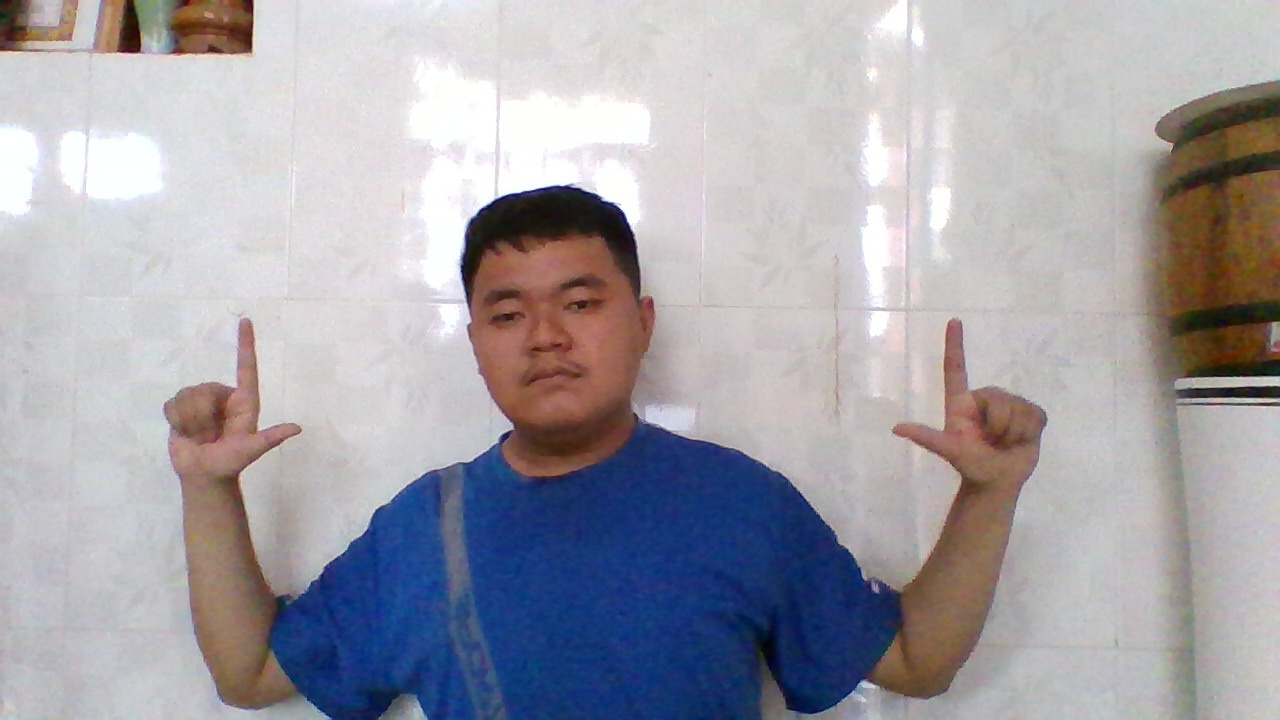L: (883, 306, 1054, 497), (154, 307, 311, 491)
